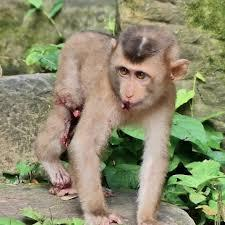fracture: (47, 56, 90, 119)
